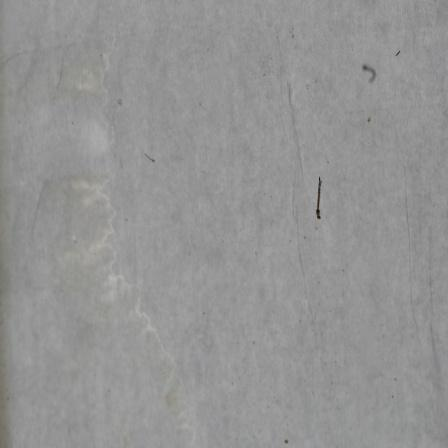Jentik-Nyamuk: (313, 173, 326, 225)
